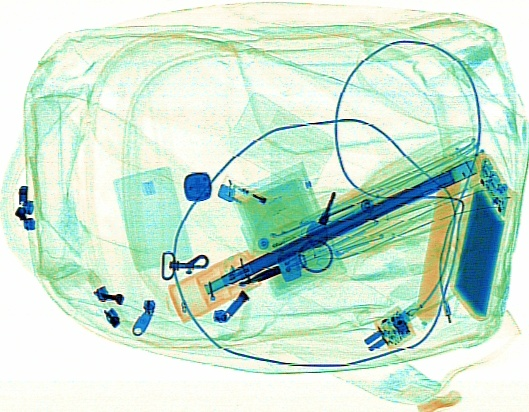lighter: (215, 174, 307, 239)
